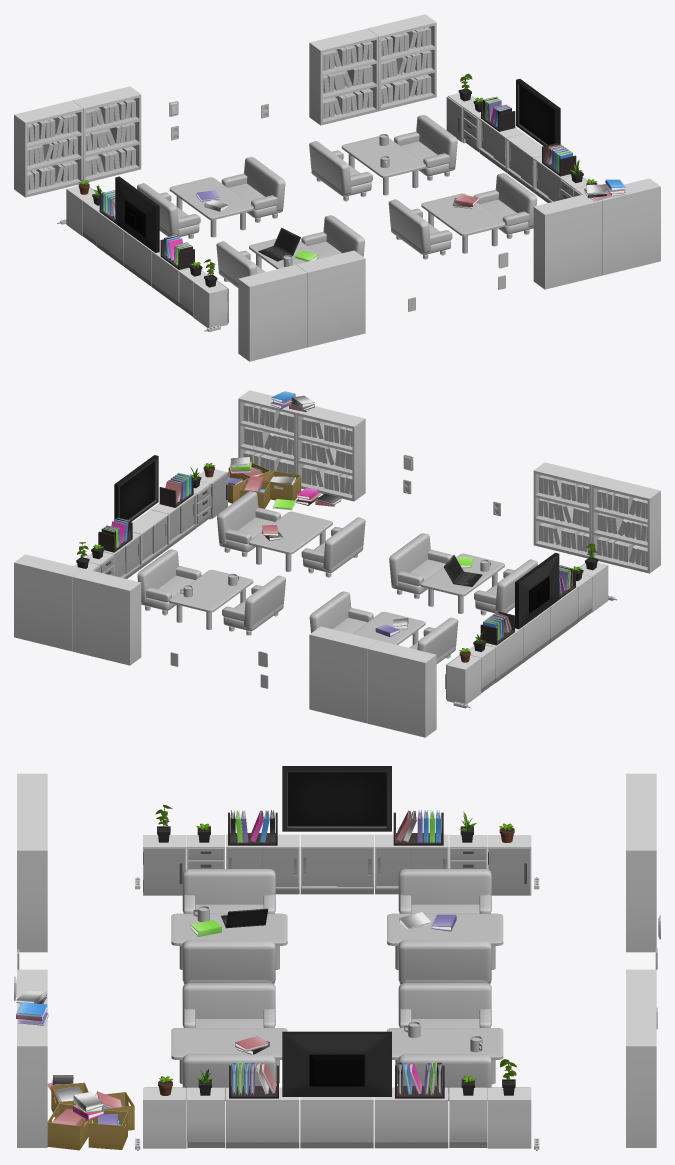
Rendered from Room02Set2.FBX.
The picture shows the model from 3 angles, top to bottom: view 1: azimuth 30°, elevation 25°; view 2: azimuth 150°, elevation 25°; view 3: azimuth 270°, elevation 25°; orthographic projection. The views are drawn at different scales.
Parts seen in each view (by area): view 1: bookshelf021, bookshelf023, bookshelf022, bookshelf024, bookshelf028, bookshelf026, Books016, Books017, Books018, Books015, bookshelf027, bookshelf025 (+25 smaller); view 2: bookshelf026, bookshelf028, bookshelf027, bookshelf025, bookshelf021, bookshelf023, Books013, Books012, Books011, Books014, bookshelf022, ChamferBox013 (+27 smaller); view 3: moniter0 002, moniter0 003, bookshelf022, bookshelf027, bookshelf025, ChamferBox021, ChamferBox017, ChamferBox023, ChamferBox013, ChamferBox016, ChamferBox014, chestbox040 (+37 smaller).
Part boxes in pixels (x1,y1,x2,y2): bookshelf021: (238, 264, 307, 361); bookshelf023: (533, 194, 602, 289); bookshelf022: (296, 250, 365, 347); bookshelf024: (601, 178, 660, 275); bookshelf028: (14, 100, 83, 197); bookshelf026: (309, 28, 378, 125); Books016: (322, 41, 372, 118); Books017: (85, 99, 135, 176); Books018: (27, 113, 77, 190); Books015: (381, 27, 431, 104); bookshelf027: (72, 86, 141, 181); bookshelf025: (368, 14, 436, 111); bookshelf026: (72, 568, 141, 665); bookshelf028: (367, 640, 436, 737); bookshelf027: (309, 626, 378, 723); bookshelf025: (14, 554, 82, 651); bookshelf021: (591, 476, 660, 573); bookshelf023: (296, 406, 365, 501); Books013: (301, 417, 352, 494); Books012: (538, 475, 589, 552); Books011: (597, 489, 647, 566); Books014: (243, 403, 293, 476); bookshelf022: (533, 462, 602, 558); ChamferBox013: (389, 533, 452, 598); moniter0 002: (282, 1031, 391, 1096); moniter0 003: (282, 766, 391, 831); bookshelf022: (17, 812, 47, 952); bookshelf027: (626, 812, 656, 952); bookshelf025: (626, 1008, 656, 1147); ChamferBox021: (182, 983, 275, 1027); ChamferBox017: (398, 869, 491, 913); ChamferBox023: (398, 983, 491, 1027); ChamferBox013: (182, 940, 275, 984); ChamferBox016: (398, 940, 491, 984); ChamferBox014: (182, 869, 275, 913); chestbox040: (374, 1087, 448, 1148).
Size of the model in its own units: 120 by 24.26 by 120.
